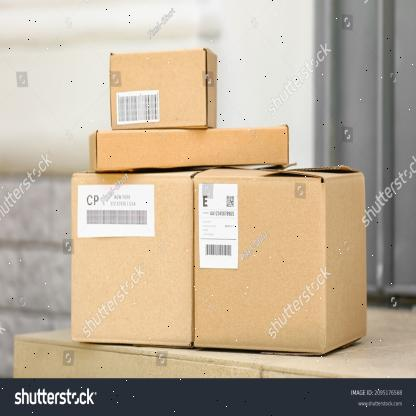box: (194, 174, 326, 352), (72, 173, 192, 345), (96, 124, 290, 169), (111, 51, 206, 128)
